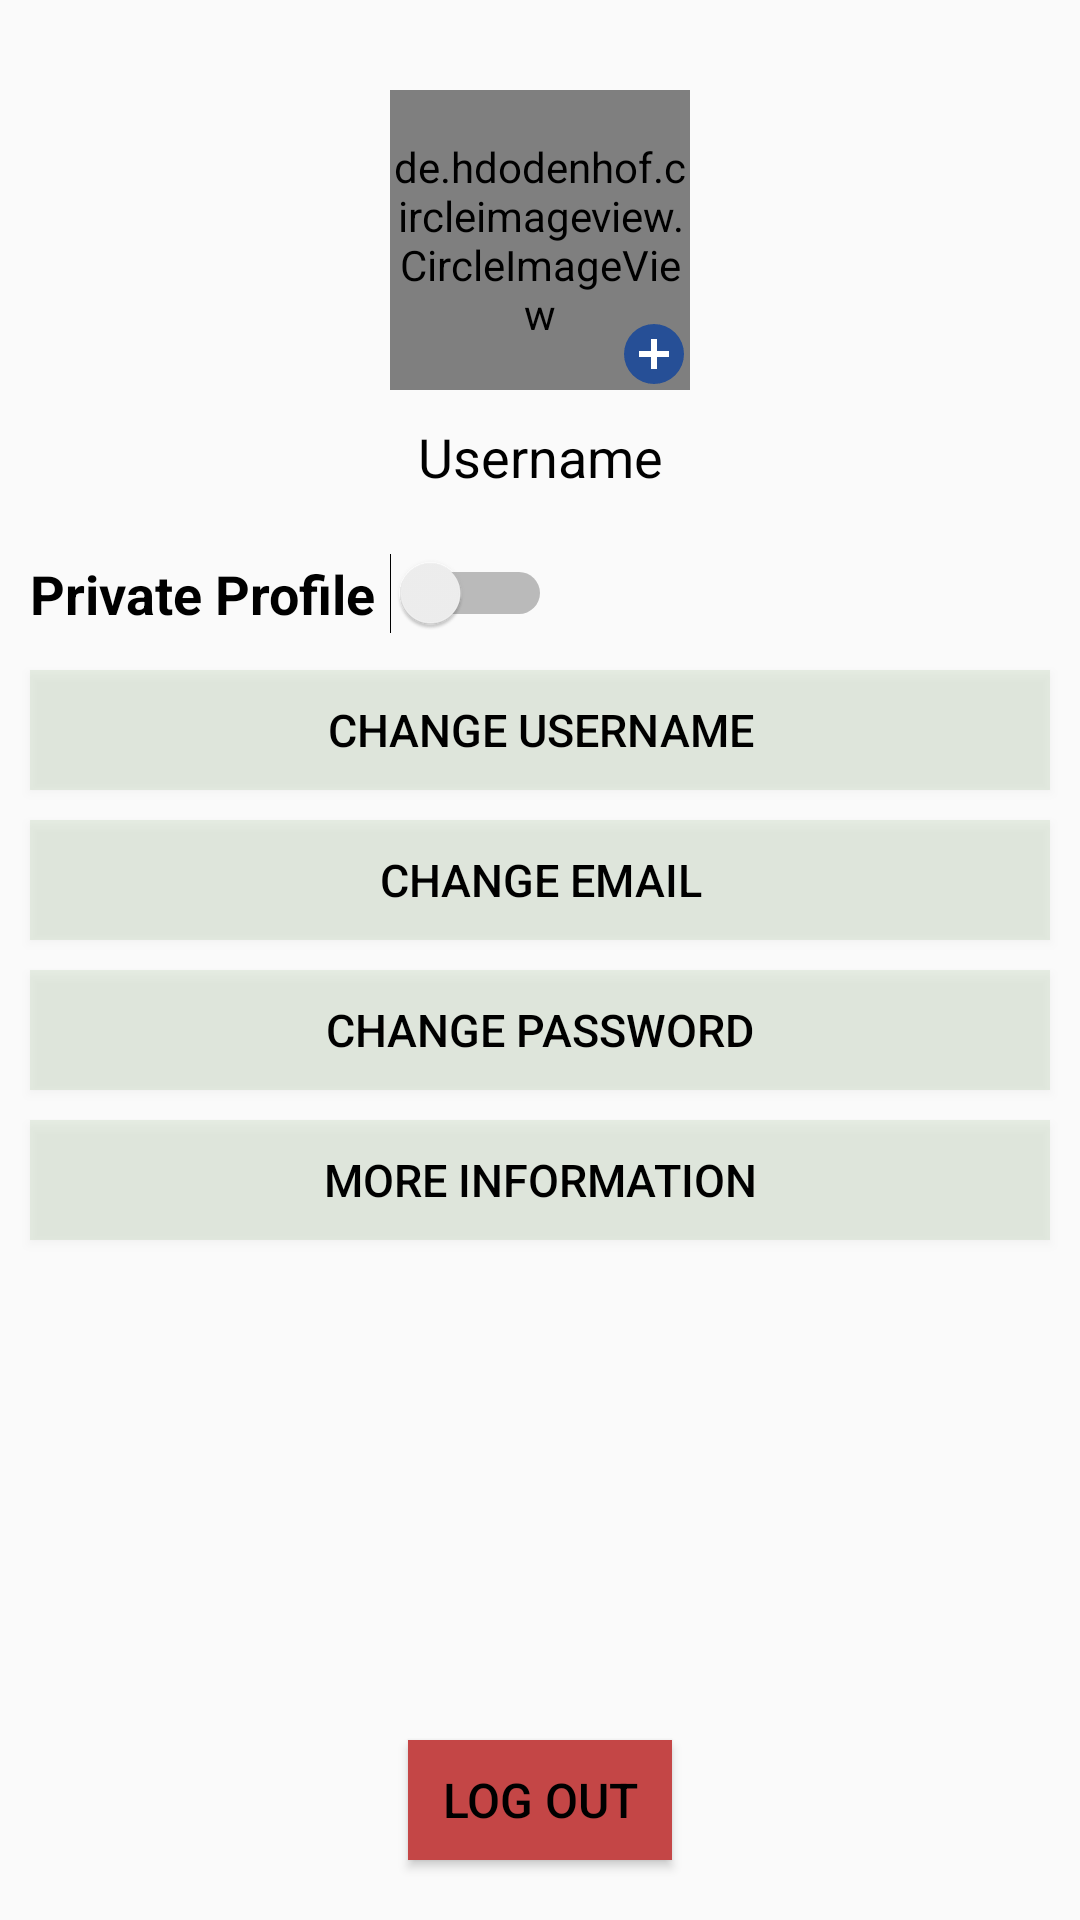

Named icons in this screenshot (1080 x 1920) and their bounding boxes, box=[x1, y1, x2, y2]:
plus circle: box=[624, 324, 684, 384]
